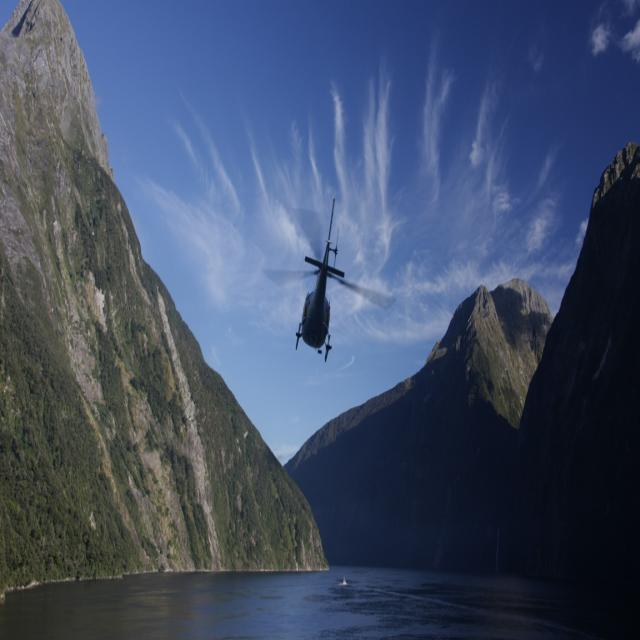helicopter: (270, 196, 389, 388)
